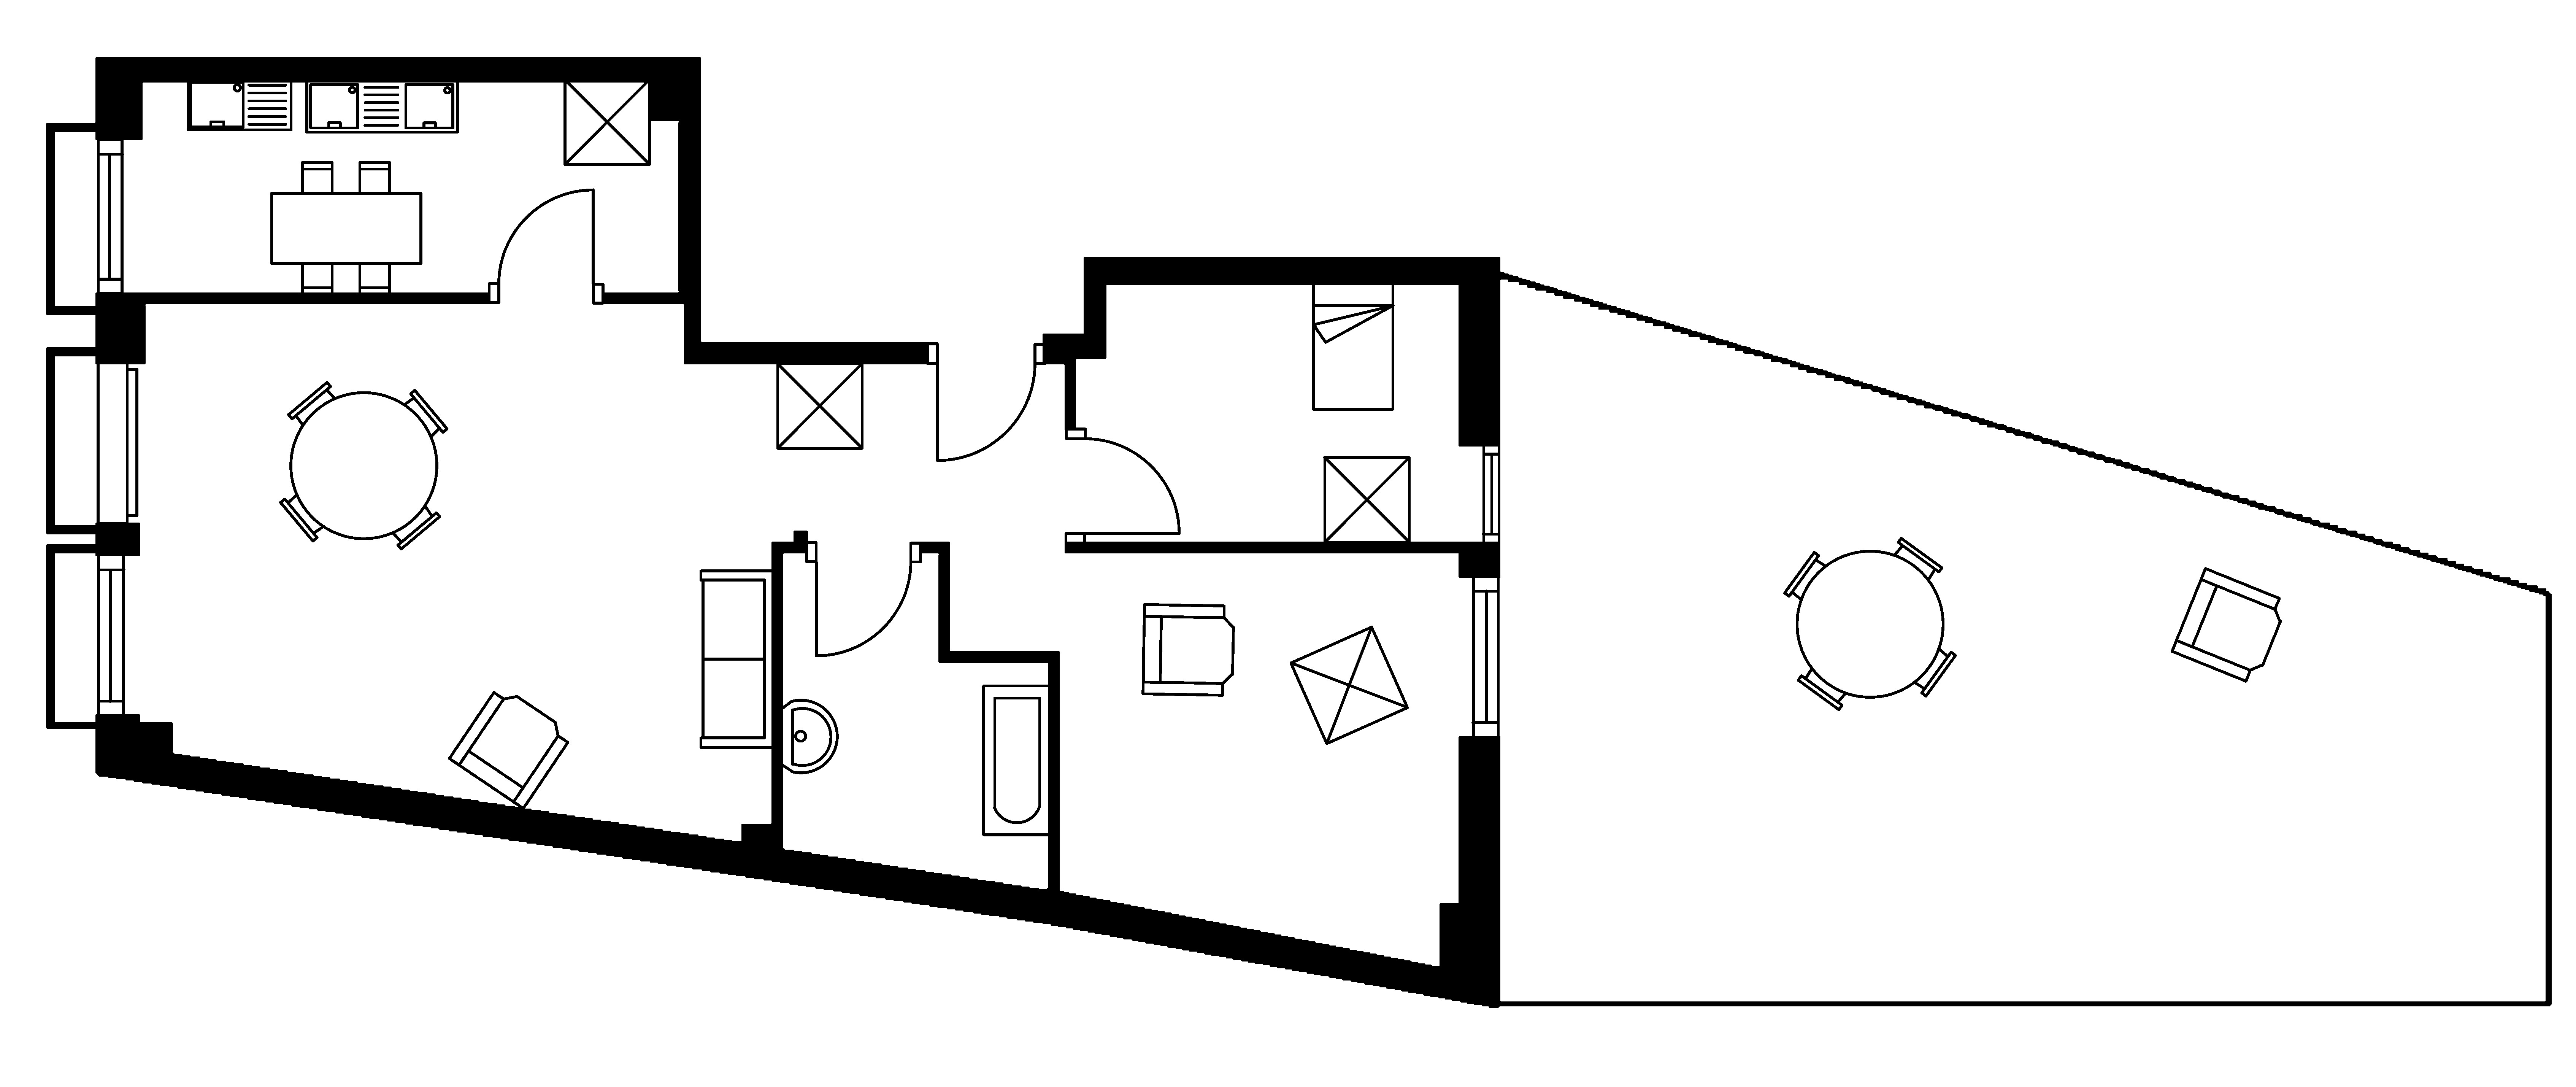armchair: (447, 691, 570, 811), (2170, 566, 2282, 682), (1140, 602, 1235, 697)
bed: (1311, 281, 1395, 411)
coffee_table: (1288, 625, 1410, 745), (562, 77, 651, 166), (775, 362, 864, 451), (1322, 456, 1411, 544)
dining_table: (269, 160, 422, 296)
large_sofa: (698, 569, 774, 748)
round_table: (1782, 536, 1957, 710), (278, 380, 448, 551)
sink: (186, 77, 292, 132)
small_sink: (780, 699, 838, 773)
tub: (981, 684, 1051, 837)
twin_sink: (304, 77, 458, 133)
